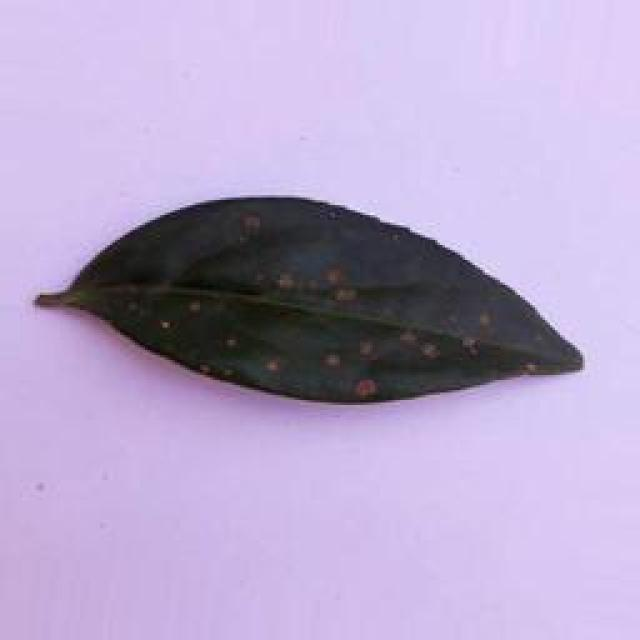Algal Leaf Spot: (72, 189, 587, 406)
